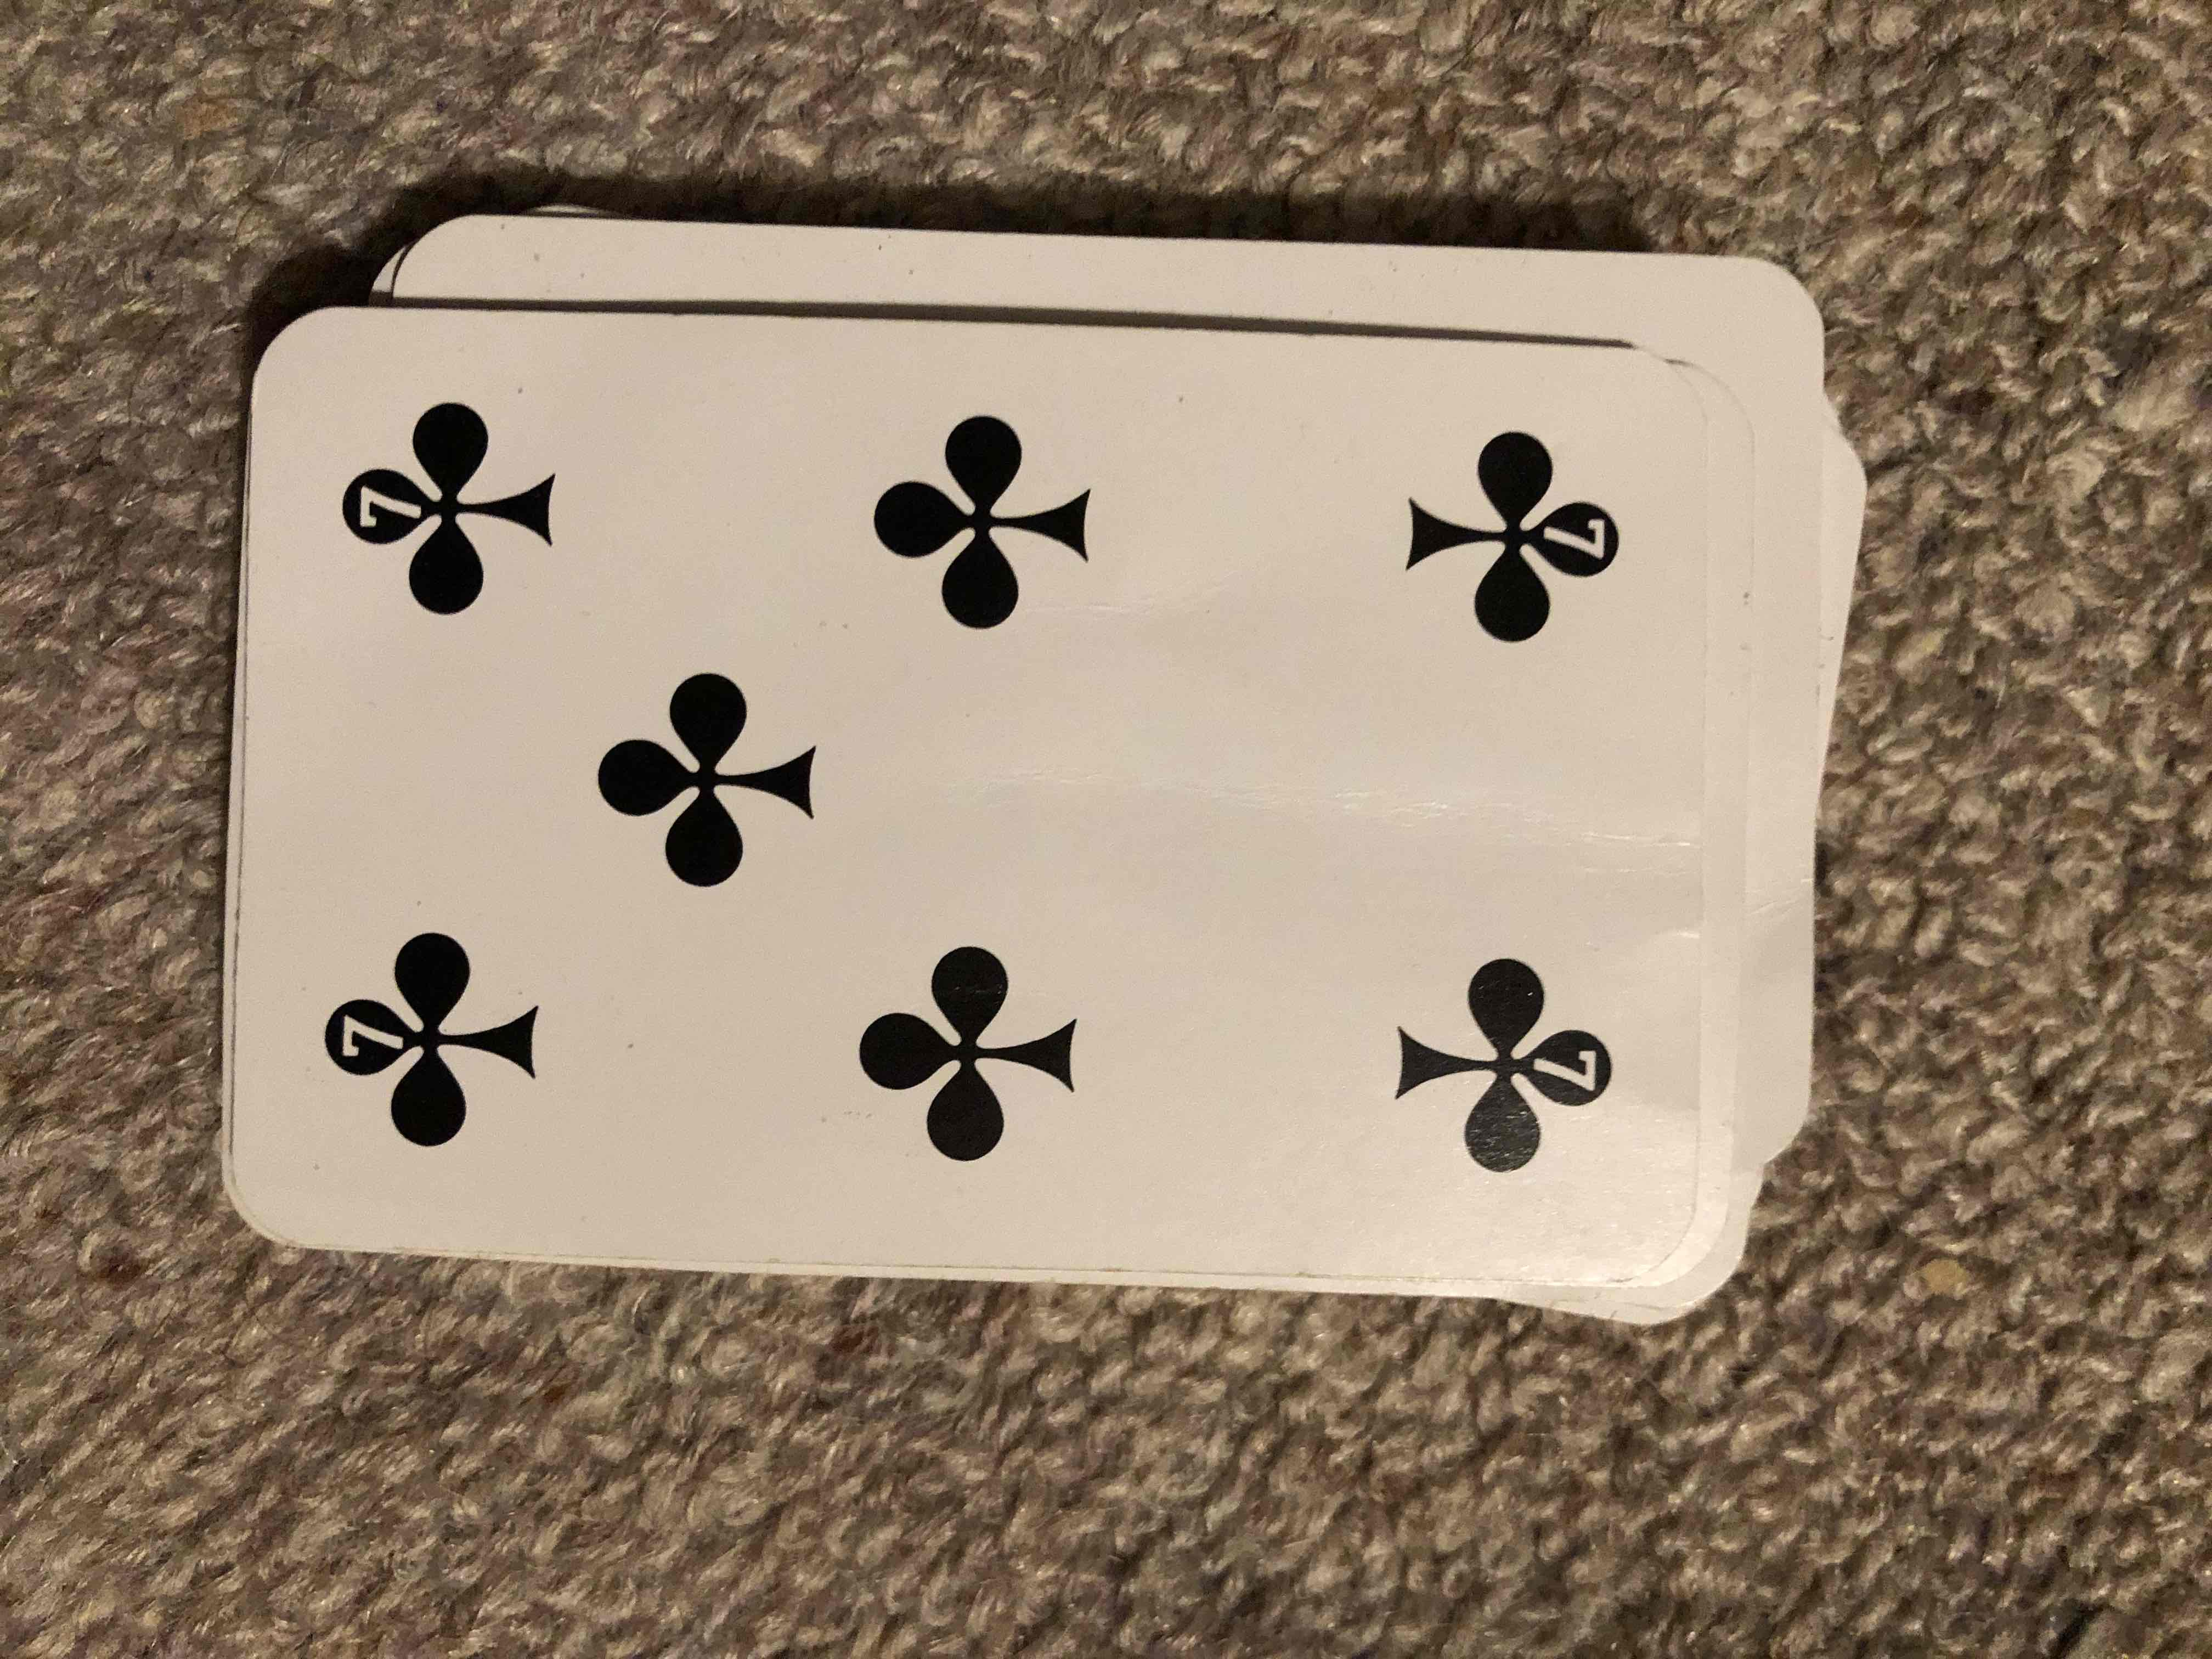clubs7: (261, 303, 1714, 1279)
